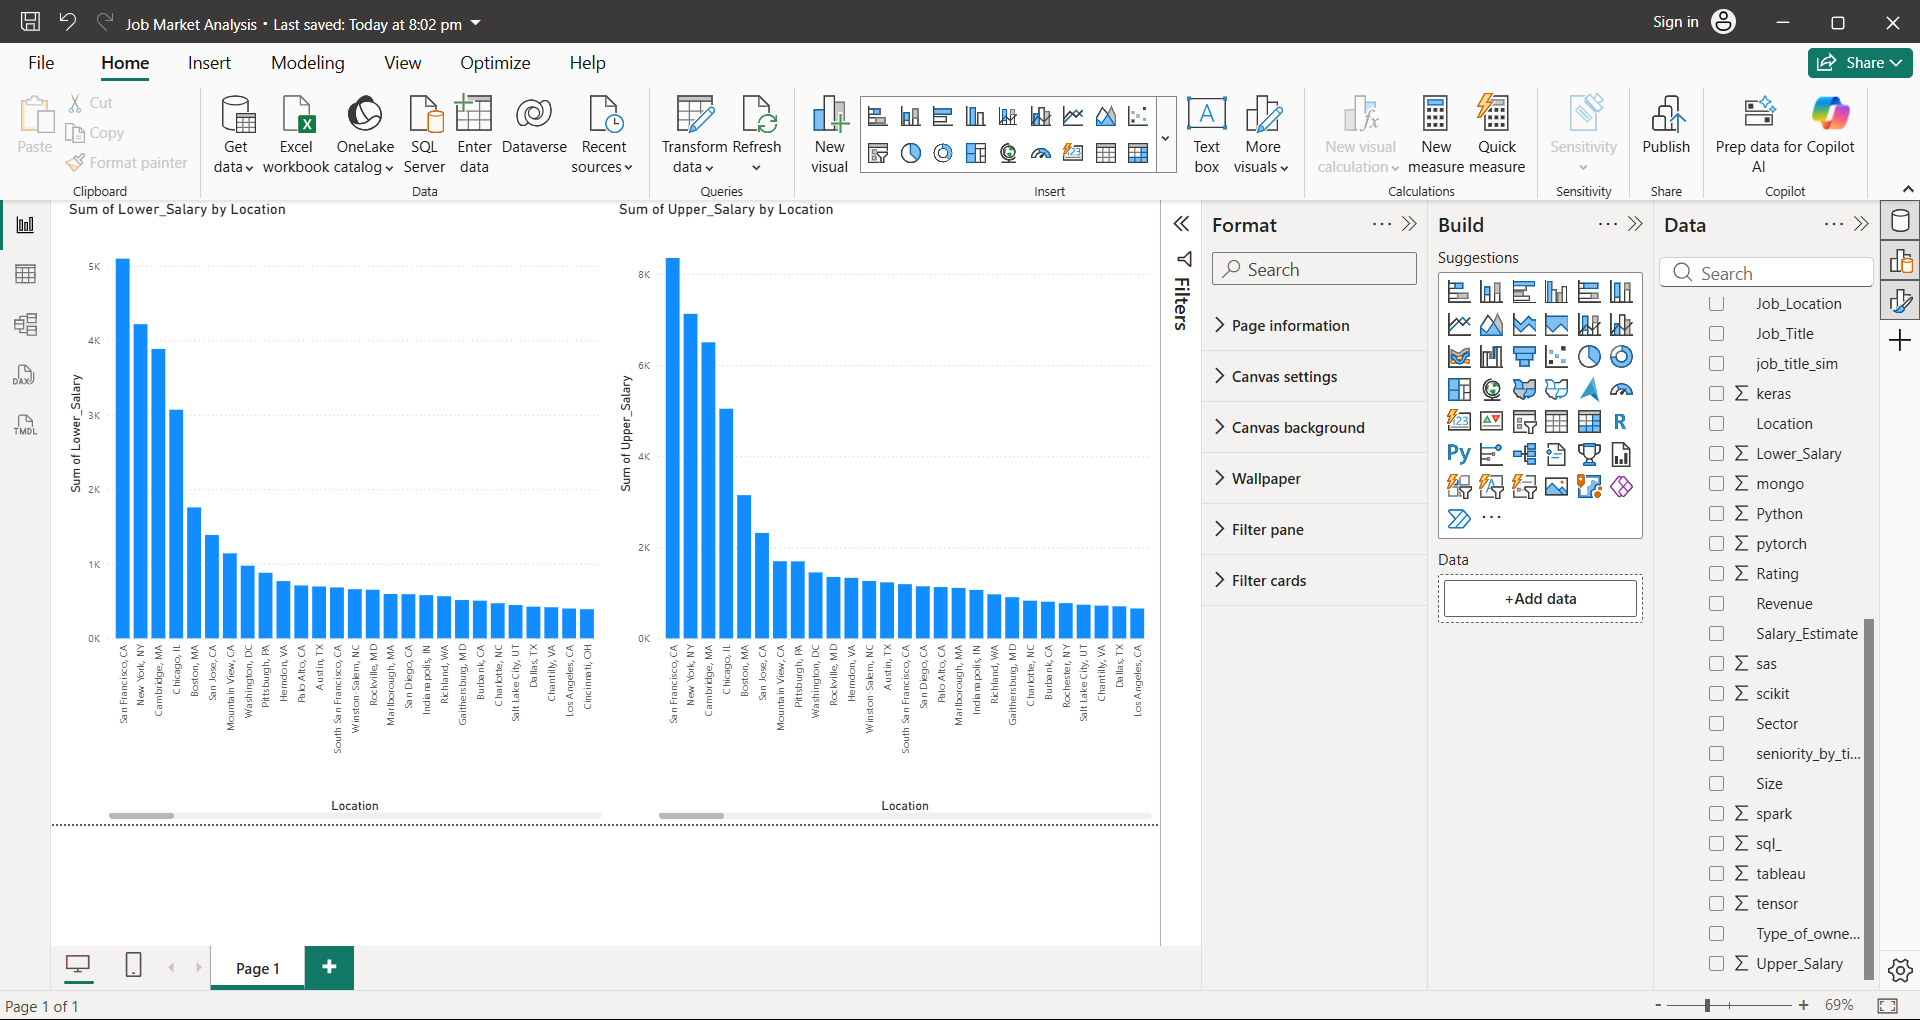

The dashboard page shown, as its layout file describes it:
{"tool":"powerbi","page":{"name":"Page 3","canvas":[1280,720],"ordinal":1},"visuals":[{"type":"clusteredColumnChart","fields":{"Category":["project_job_market_analysis Market.Location"],"Y":["Sum(project_job_market_analysis Market.Lower_Salary)"]},"box":[15.9,0,624.7,719.9],"z":0},{"type":"clusteredColumnChart","fields":{"Category":["project_job_market_analysis Market.Location"],"Y":["Sum(project_job_market_analysis Market.Upper_Salary)"]},"box":[651,0,625,720],"z":1000}]}

Visuals, with their boxes on the page's 1280x720 design canvas (x1, y1, x2, y2). These are canvas units, not pixel positions in the 1920x1020 screenshot, which may show the page scaled, cropped or inside an application window:
clusteredColumnChart - project_job_market_analysis Market.Location x Sum(project_job_market_analysis Market.Lower_Salary): detection(16, 0, 641, 720)
clusteredColumnChart - project_job_market_analysis Market.Location x Sum(project_job_market_analysis Market.Upper_Salary): detection(651, 0, 1276, 720)
